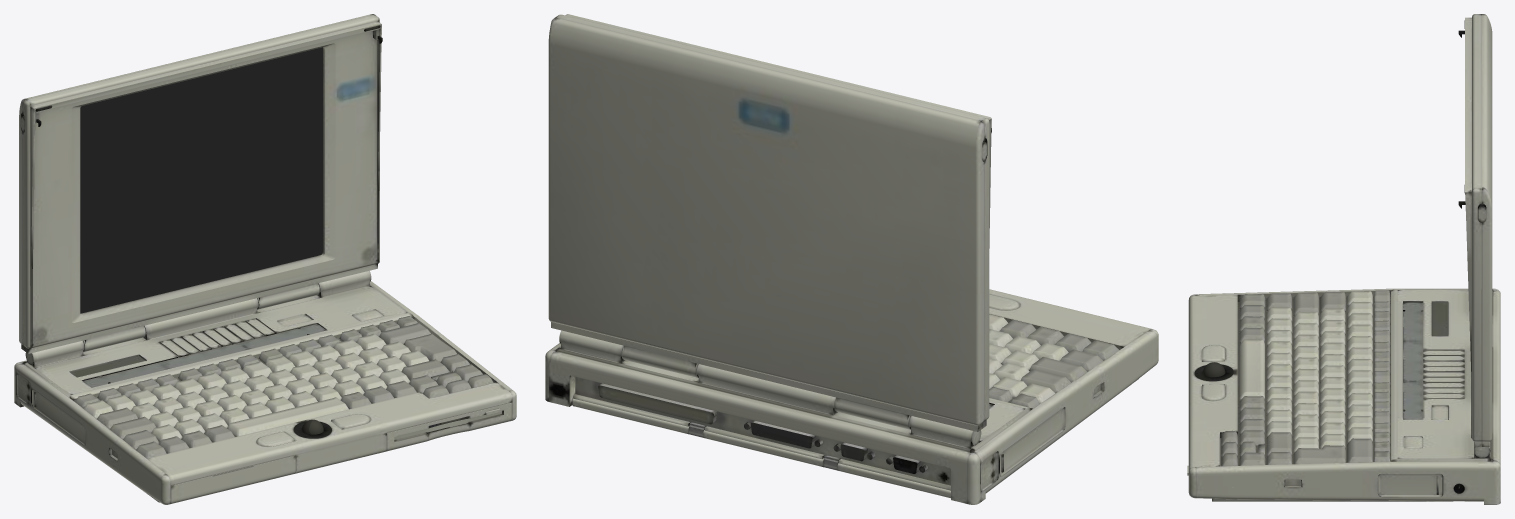
File: classic_laptop.gltf
3 views of the same model, side by side, from view 1: azimuth 30°, elevation 25°; view 2: azimuth 150°, elevation 25°; view 3: azimuth 270°, elevation 25° (orthographic). The views are drawn at different scales.
Parts seen in each view (by area): view 1: classic_laptop_screen, classic_laptop; view 2: classic_laptop_screen, classic_laptop, classic_laptop_stand; view 3: classic_laptop, classic_laptop_screen.
Part boxes in pixels (x1=…): classic_laptop_screen: x1=19, y1=14, x2=382, y2=353; classic_laptop: x1=14, y1=271, x2=516, y2=504; classic_laptop_screen: x1=548, y1=14, x2=991, y2=431; classic_laptop: x1=545, y1=289, x2=1158, y2=504; classic_laptop_stand: x1=572, y1=398, x2=950, y2=498; classic_laptop: x1=1187, y1=288, x2=1500, y2=504; classic_laptop_screen: x1=1458, y1=14, x2=1492, y2=446.
Size of the model in its own units: 0.6519 by 0.5428 by 0.4859.
Materials: 2 (1 with a texture image).
